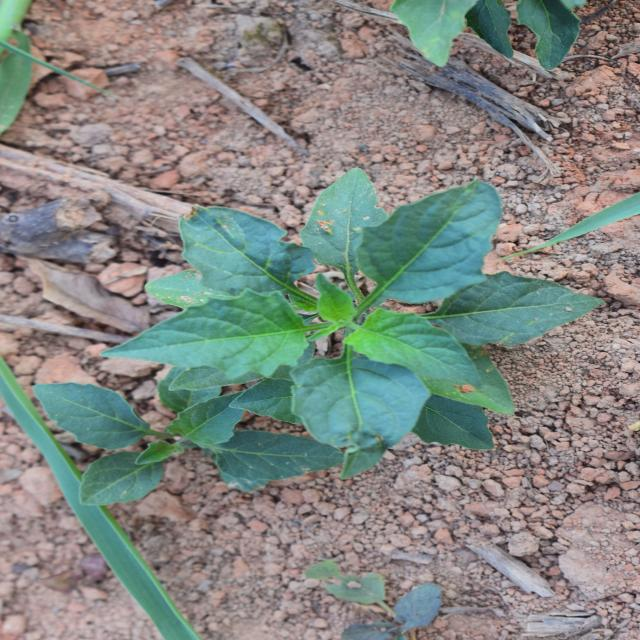Black_nightshade: (210, 136, 450, 544), (120, 37, 278, 322)
